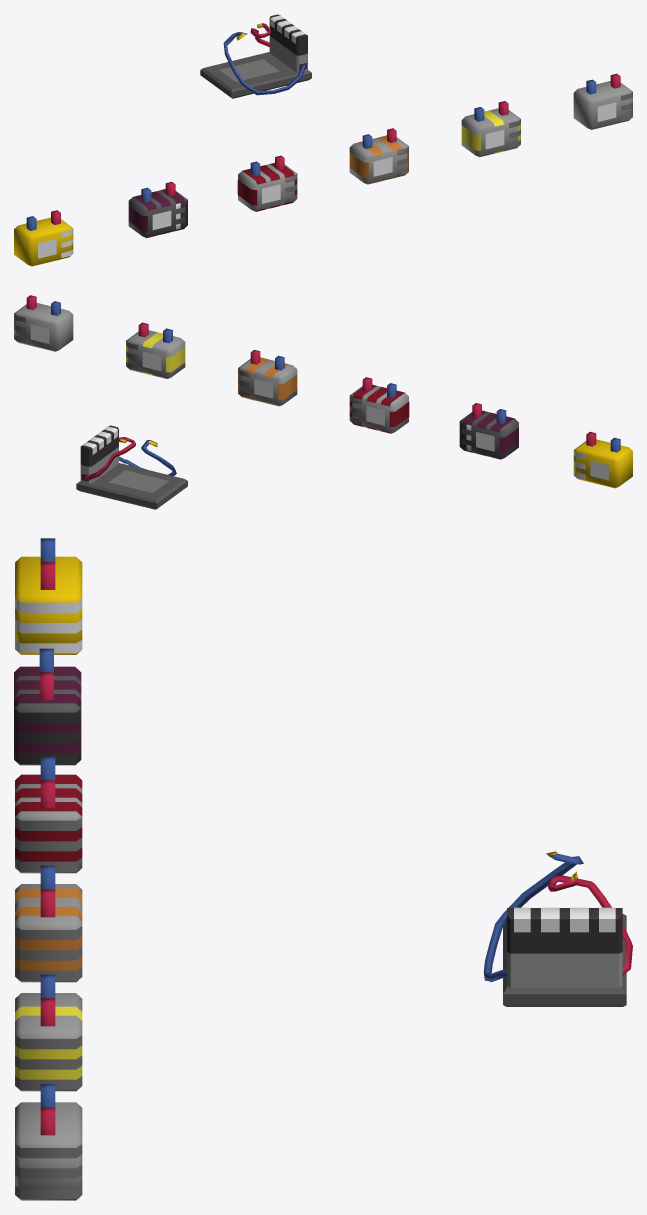
The model's file is PowerCells.fbx.
The picture shows the model from 3 angles, top to bottom: view 1: azimuth 30°, elevation 25°; view 2: azimuth 150°, elevation 25°; view 3: azimuth 270°, elevation 25°; orthographic projection. The views are drawn at different scales.
Parts seen in each view (by area): view 1: PowerCellCharger, PowerCellHyper, PowerCellBluespace, PowerCellHigh, PowerCell, PowerCellSuper, PowerCellAdmin, PowerCellChargerWires; view 2: PowerCellCharger, PowerCellHyper, PowerCellAdmin, PowerCellSuper, PowerCell, PowerCellBluespace, PowerCellHigh, PowerCellChargerWires; view 3: PowerCellCharger, PowerCell, PowerCellHyper, PowerCellBluespace, PowerCellAdmin, PowerCellHigh, PowerCellSuper, PowerCellChargerWires.
Boxes of the visible parts, bbox=[...] form: PowerCellCharger: bbox=[200, 14, 311, 98]; PowerCellHyper: bbox=[237, 155, 297, 211]; PowerCellBluespace: bbox=[128, 182, 187, 238]; PowerCellHigh: bbox=[461, 101, 520, 157]; PowerCell: bbox=[573, 73, 632, 129]; PowerCellSuper: bbox=[349, 128, 408, 184]; PowerCellAdmin: bbox=[14, 210, 73, 266]; PowerCellChargerWires: bbox=[223, 23, 304, 95]; PowerCellCharger: bbox=[76, 425, 187, 509]; PowerCellHyper: bbox=[349, 377, 409, 433]; PowerCellAdmin: bbox=[573, 431, 632, 488]; PowerCellSuper: bbox=[238, 350, 297, 406]; PowerCell: bbox=[14, 295, 73, 351]; PowerCellBluespace: bbox=[459, 403, 518, 459]; PowerCellHigh: bbox=[126, 322, 185, 378]; PowerCellChargerWires: bbox=[84, 437, 176, 480]; PowerCellCharger: bbox=[503, 907, 626, 1006]; PowerCell: bbox=[15, 1084, 82, 1200]; PowerCellHyper: bbox=[15, 756, 82, 873]; PowerCellBluespace: bbox=[14, 648, 81, 765]; PowerCellAdmin: bbox=[15, 538, 82, 654]; PowerCellHigh: bbox=[15, 974, 82, 1091]; PowerCellSuper: bbox=[15, 865, 82, 982]; PowerCellChargerWires: bbox=[483, 851, 632, 982].
Size of the model in its own units: 2.7 by 0.2197 by 1.2.
